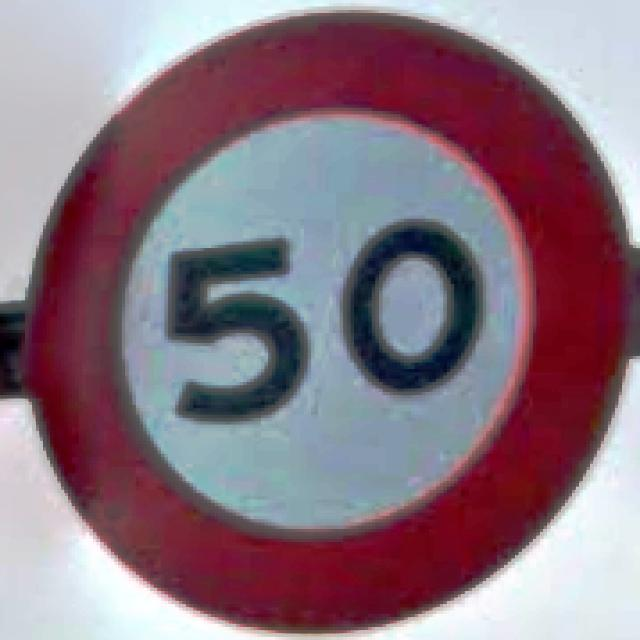max50: (18, 4, 636, 634)
